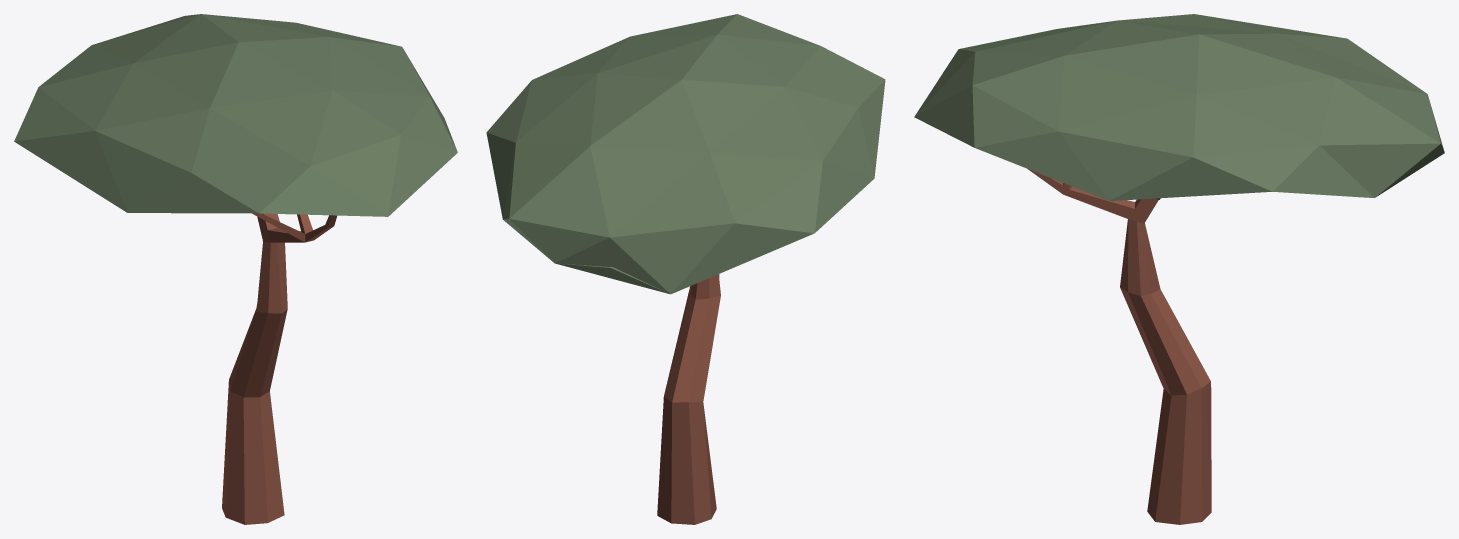
Rendered from Trees5.gltf.
3 views of the same model, side by side, from view 1: azimuth 30°, elevation 25°; view 2: azimuth 150°, elevation 25°; view 3: azimuth 270°, elevation 25° (orthographic). The views are drawn at different scales.
Parts seen in each view (by area): view 1: Icosphere.003, Cube.003; view 2: Icosphere.003, Cube.003; view 3: Icosphere.003, Cube.003.
Boxes of the visible parts, x1,y1,x2,y2 form: Icosphere.003: (14,14,457,216); Cube.003: (222,213,336,524); Icosphere.003: (486,14,885,294); Cube.003: (657,274,720,524); Icosphere.003: (914,14,1444,200); Cube.003: (1028,169,1211,524).
Size of the model in its own units: 17.72 by 22.28 by 22.55.
